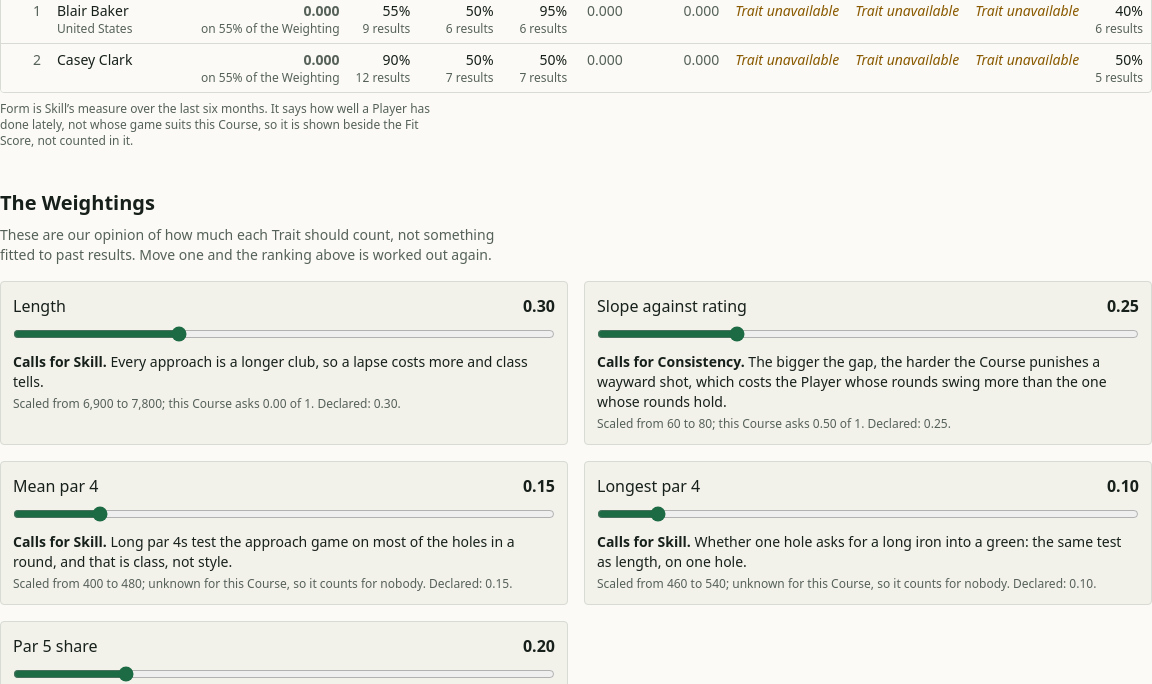
it: Ranking › does not blame a known Trait's range when a different known Trait is merely zero-weighted
The image size is (1152, 684).
(page scrolled)
Set the slider labelled "Slope against rating" to "0" at (605,334), box [597, 326, 1139, 342]
(page scrolled)
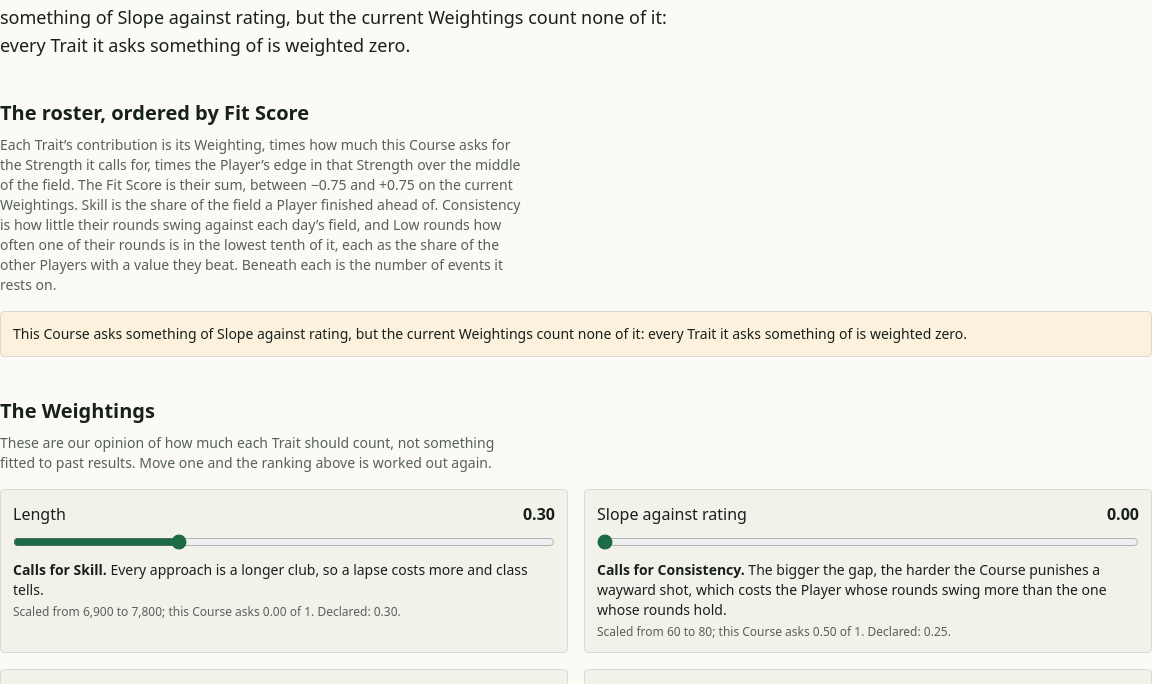
Check: the text "This Course asks something of Slope against rating, but the current Weightings count none of it: every Trait it asks som" is shown, box [0, 311, 1151, 357]
